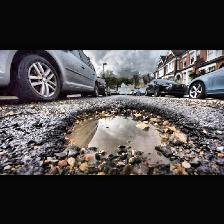pothole: (39, 104, 199, 174)
